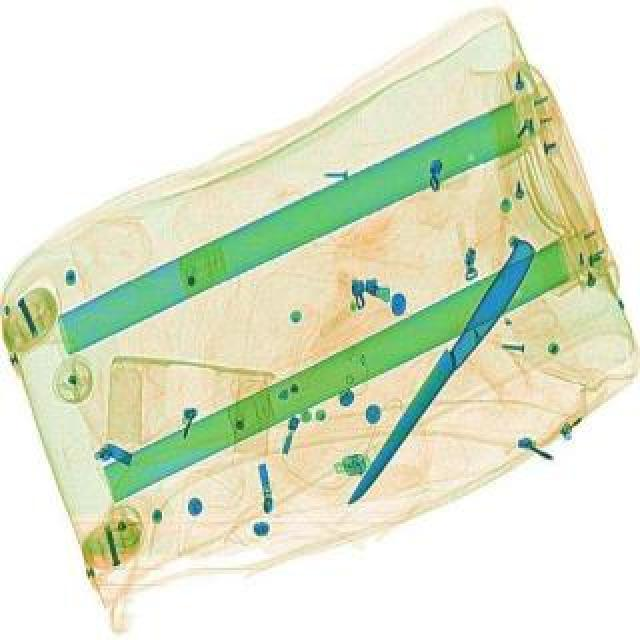knife: (344, 234, 544, 512)
